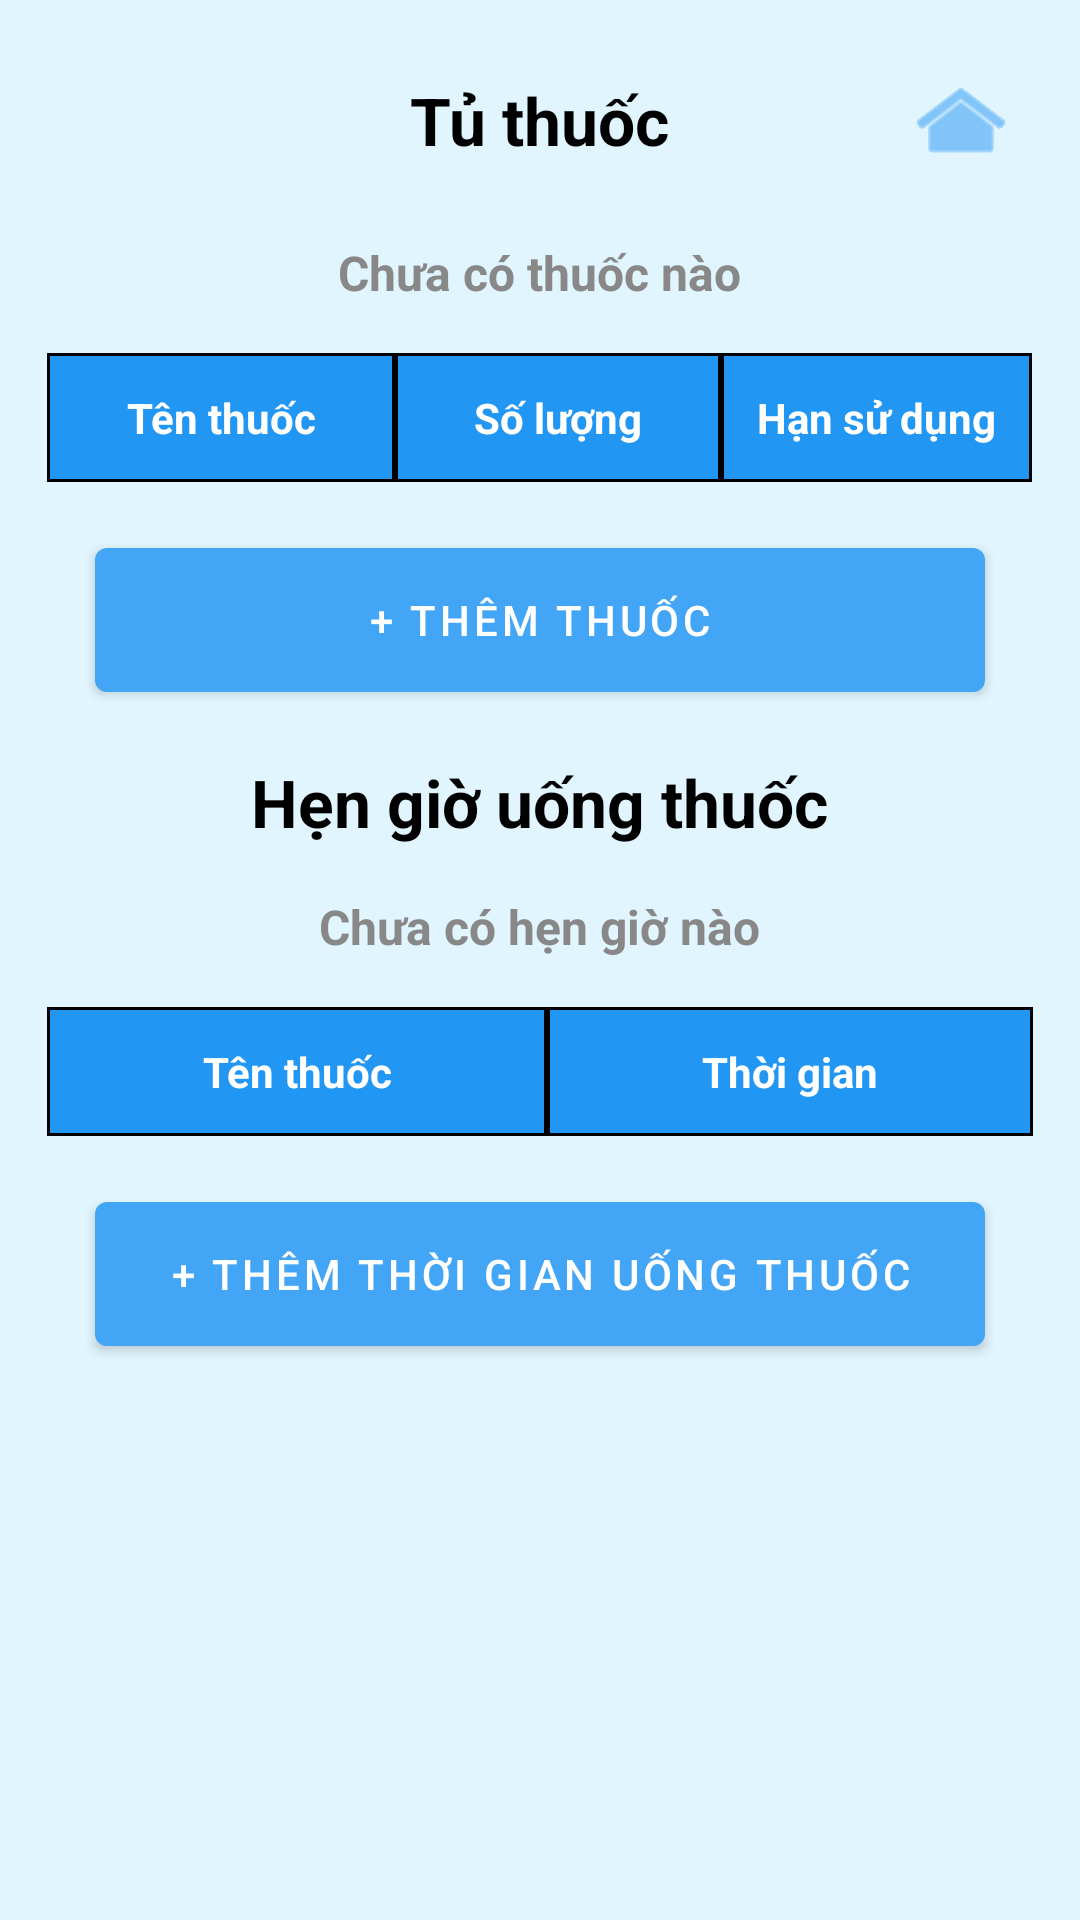

Named icons in this screenshot (1080w x 1920h) and their bounding boxes, (x1, y1, x2, y2):
Trang chủ: (916, 88, 1006, 153)
